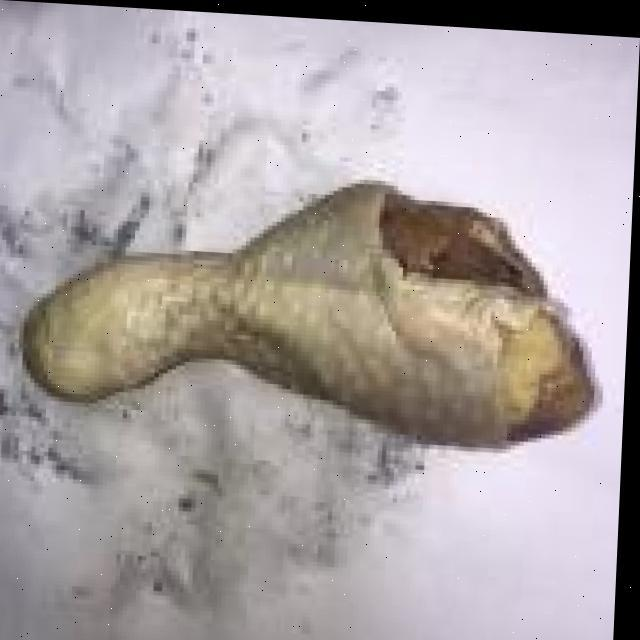leg: (31, 164, 604, 460)
